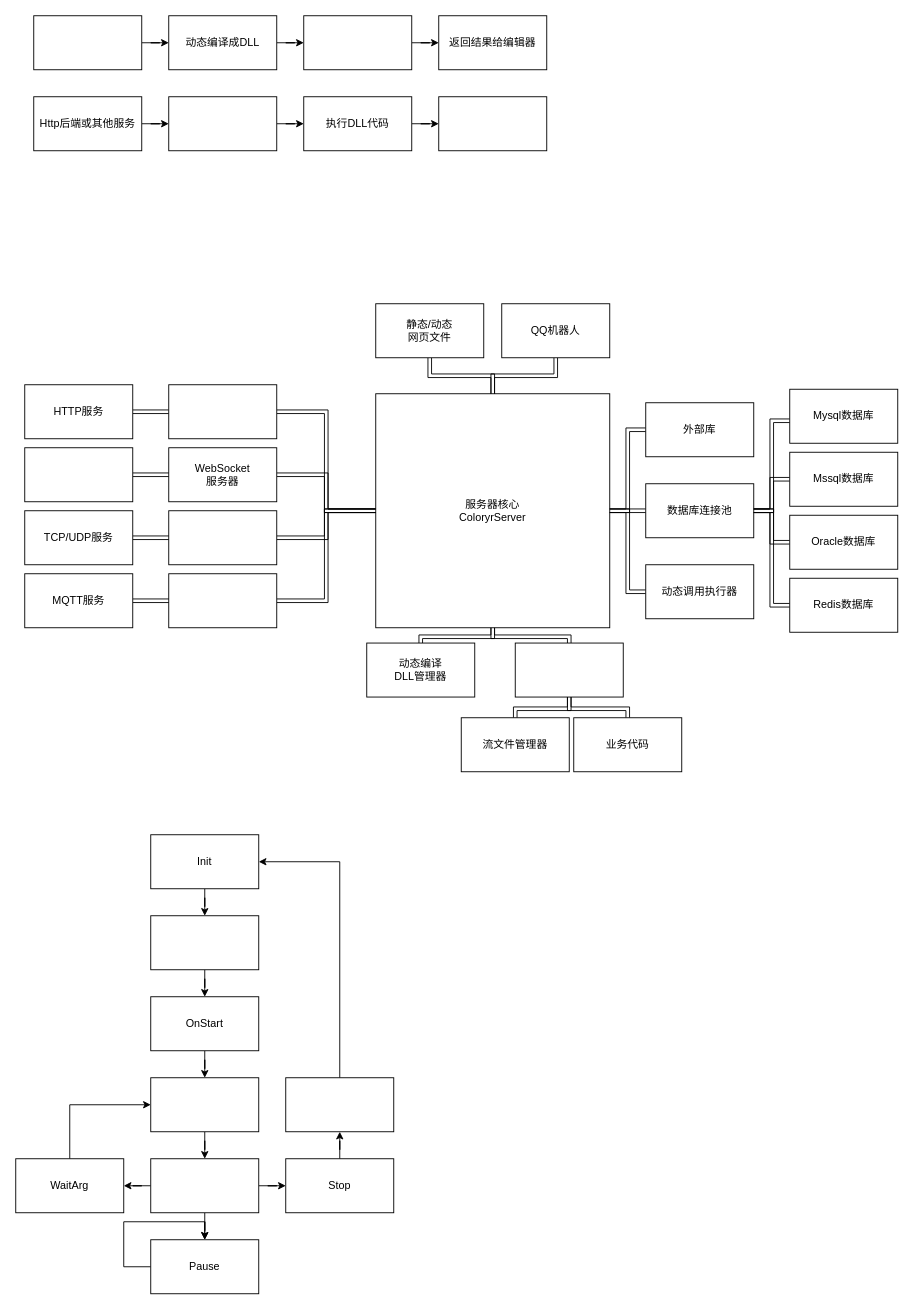
Some shapes in this 914 by 1310 pixel diagram are drawn without their labels. Here are the shapes that lost their labels. From the top down, the centre of each, then its label:
At pixel 87 42: "用户编写业务代码".
At pixel 357 42: "保存DLL".
At pixel 222 123: "调用对应的DLL".
At pixel 492 123: "返回结果给服务".
At pixel 222 411: "ASP.Net Core Http服务器".
At pixel 78 474: "WebSocket服务".
At pixel 222 537: "Socket 服务器".
At pixel 222 600: "MQTT 服务器".
At pixel 568 669: "文件系统".
At pixel 204 942: "Start".
At pixel 204 1104: "Ready".
At pixel 339 1104: "OnStop".
At pixel 204 1185: "Run".
